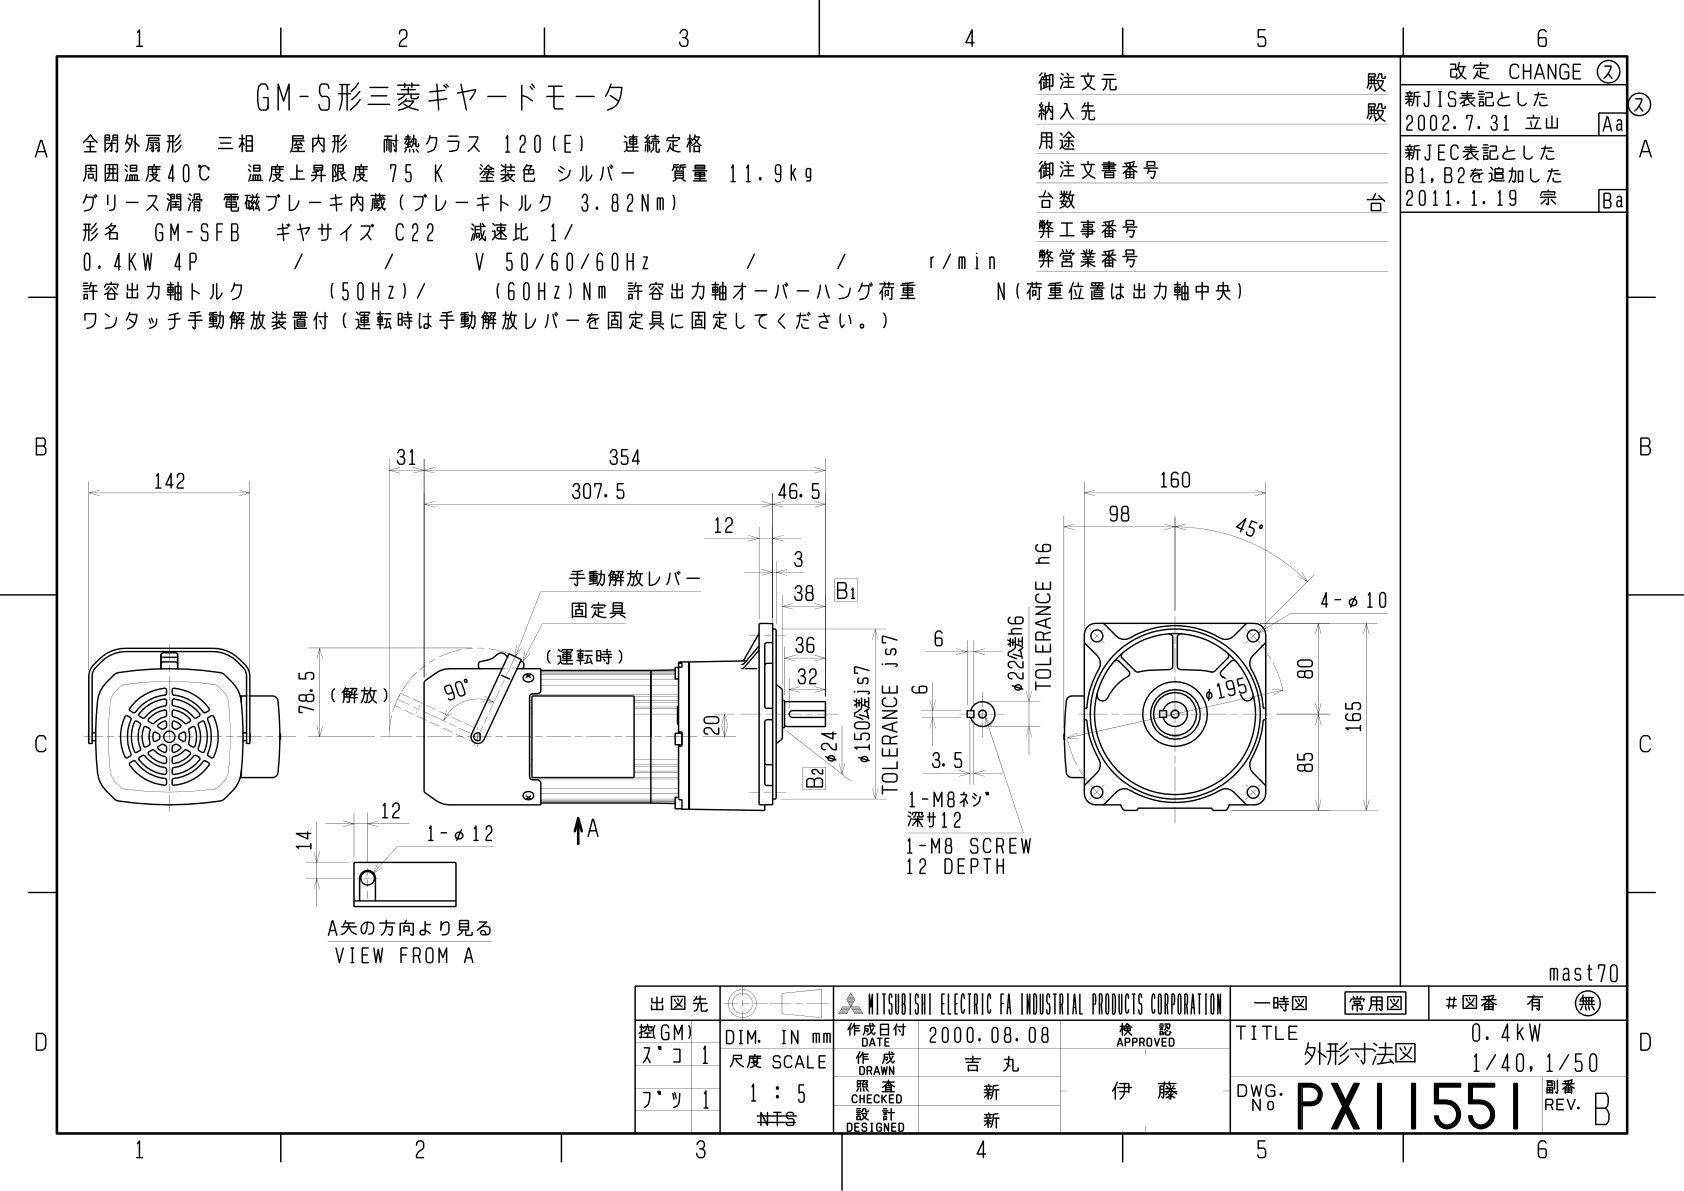GM_S_手動ブレーキ＿三相_フランジ: (71, 424, 1399, 982)
